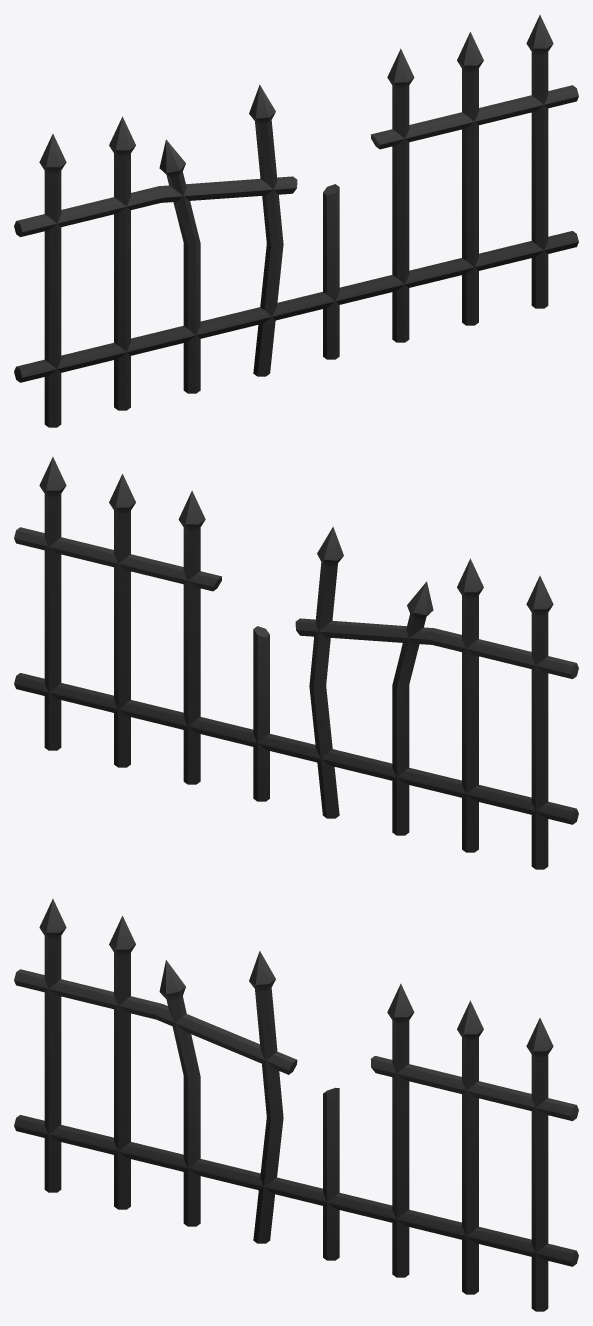
The model's file is kaykit-halloween-bits-fence-seperate-broken.glb.
3 views of the same model, one above another, from view 1: azimuth 30°, elevation 25°; view 2: azimuth 150°, elevation 25°; view 3: azimuth 330°, elevation 25° (orthographic).
Parts seen in each view (by area): view 1: fence_seperate_broken; view 2: fence_seperate_broken; view 3: fence_seperate_broken.
Part boxes in pixels (x1=…): fence_seperate_broken: x1=14, y1=15, x2=578, y2=427; fence_seperate_broken: x1=14, y1=457, x2=578, y2=869; fence_seperate_broken: x1=14, y1=899, x2=578, y2=1311.
Bounding box in the file's own units: 4 × 2 × 0.1694.
1 material, 1 textured.
